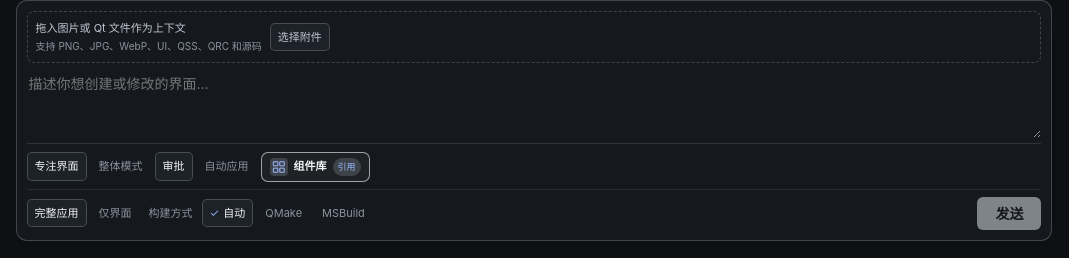
Test: TaskComposer build selection › disables build selection for UI-only creation
Click the button "仅界面". click: (115, 213)
box: [91,199,140,227]
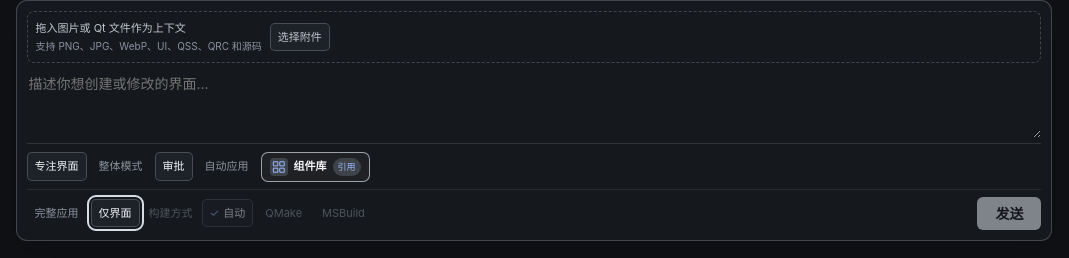
Now the button "QMake" is disabled, box [257,199,310,227]
